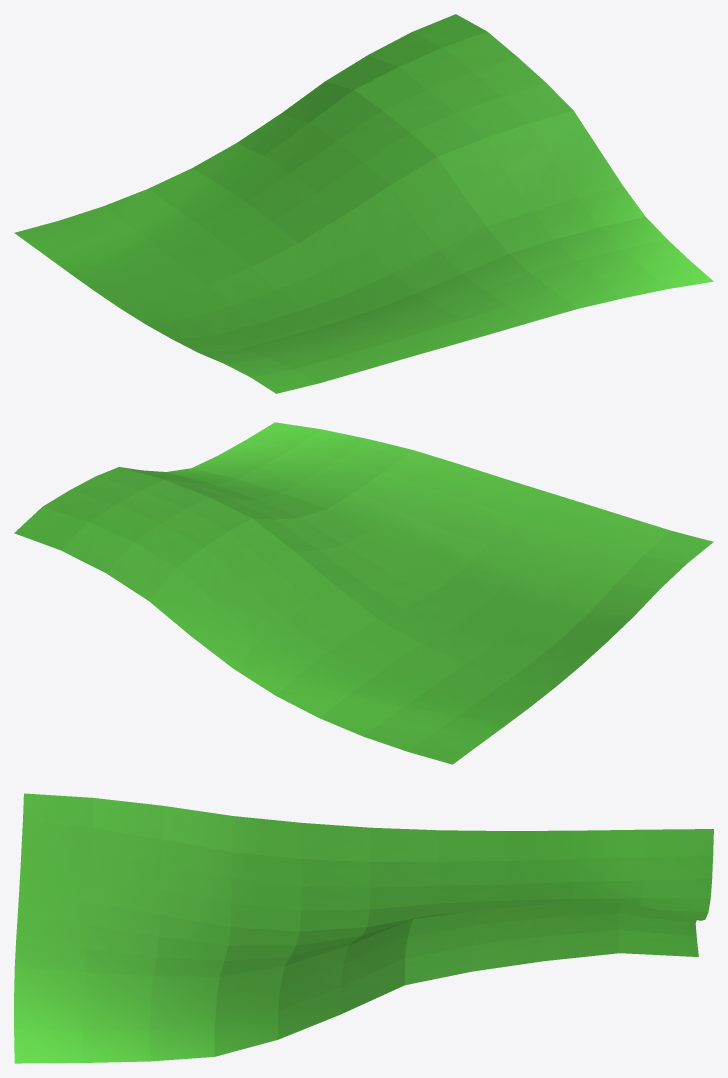
File: ground_0_2.glb
The picture shows the model from 3 angles, top to bottom: view 1: azimuth 30°, elevation 25°; view 2: azimuth 150°, elevation 25°; view 3: azimuth 270°, elevation 25°; orthographic projection. The views are drawn at different scales.
Visible parts, largest first — view 1: Ground_2_2; view 2: Ground_2_2; view 3: Ground_2_2.
Part boxes in pixels (x1,y1,x2,y2): Ground_2_2: [14, 14, 713, 393]; Ground_2_2: [14, 422, 713, 764]; Ground_2_2: [14, 793, 713, 1063].
Size of the model in its own units: 90.8 by 23.9 by 92.97.
1 material, 1 textured.
